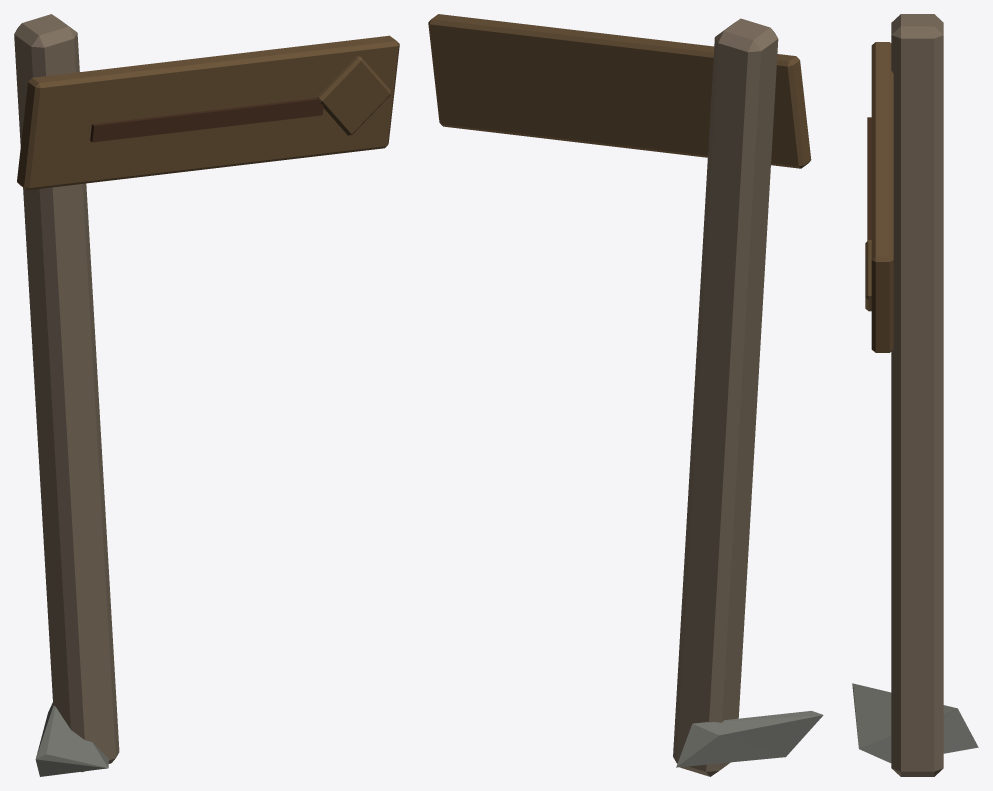
The model's file is signpost.glb.
3 views of the same model, side by side, from view 1: azimuth 30°, elevation 25°; view 2: azimuth 150°, elevation 25°; view 3: azimuth 270°, elevation 25° (orthographic). The views are drawn at different scales.
Parts seen in each view (by area): view 1: signpost; view 2: signpost; view 3: signpost.
Boxes of the visible parts, bbox=[...] form: signpost: bbox=[14, 14, 399, 776]; signpost: bbox=[428, 14, 823, 776]; signpost: bbox=[852, 14, 978, 776].
Size of the model in its own units: 0.9732 by 1.85 by 0.29.
